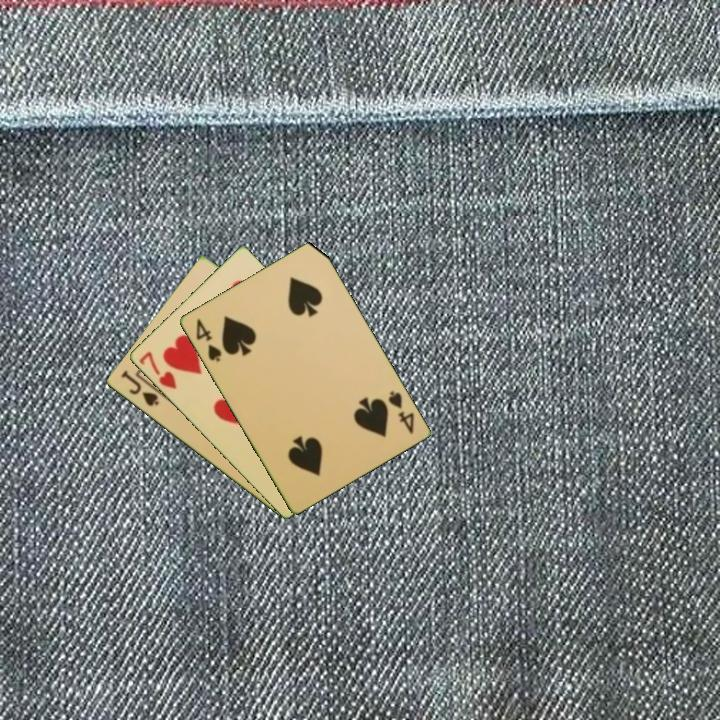4s: (384, 387, 417, 437), (192, 315, 224, 365)
7h: (135, 347, 179, 392)
Js: (117, 367, 162, 409)
